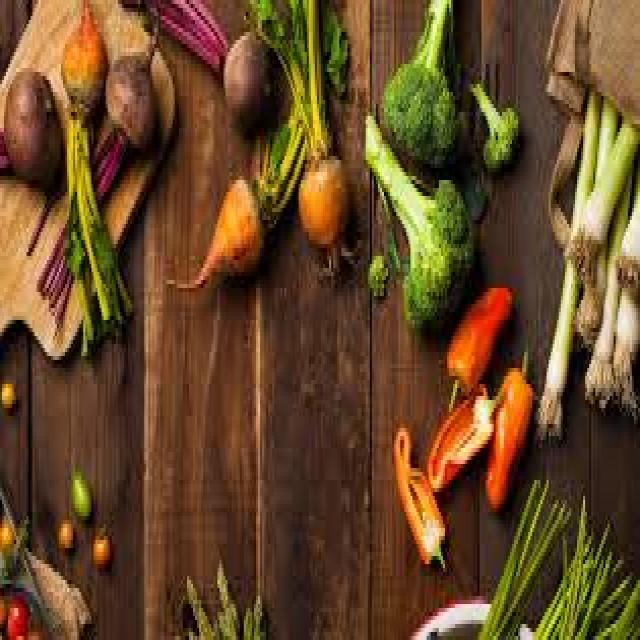organic waste: (360, 108, 478, 332), (536, 88, 598, 436), (252, 8, 347, 216), (37, 128, 130, 328), (63, 100, 130, 352), (378, 0, 467, 168), (244, 0, 339, 156), (477, 476, 569, 636), (532, 488, 612, 636), (163, 168, 260, 288), (561, 116, 638, 260), (573, 100, 618, 340), (98, 0, 160, 148), (483, 340, 532, 512), (583, 156, 618, 396), (424, 380, 502, 484), (445, 280, 512, 400), (294, 148, 354, 280), (390, 424, 443, 568), (122, 0, 229, 68), (2, 64, 59, 188), (181, 552, 264, 636), (222, 20, 272, 128), (59, 0, 106, 108), (467, 76, 516, 168), (620, 168, 638, 412), (593, 560, 638, 636), (26, 176, 65, 252), (616, 172, 638, 284), (2, 508, 28, 568), (65, 456, 91, 512), (457, 164, 484, 216), (4, 592, 26, 636), (89, 520, 108, 568), (386, 224, 404, 272), (55, 516, 77, 552), (368, 256, 386, 292), (0, 128, 10, 176), (0, 376, 14, 408), (0, 512, 10, 548), (27, 612, 40, 636), (0, 592, 6, 628)
